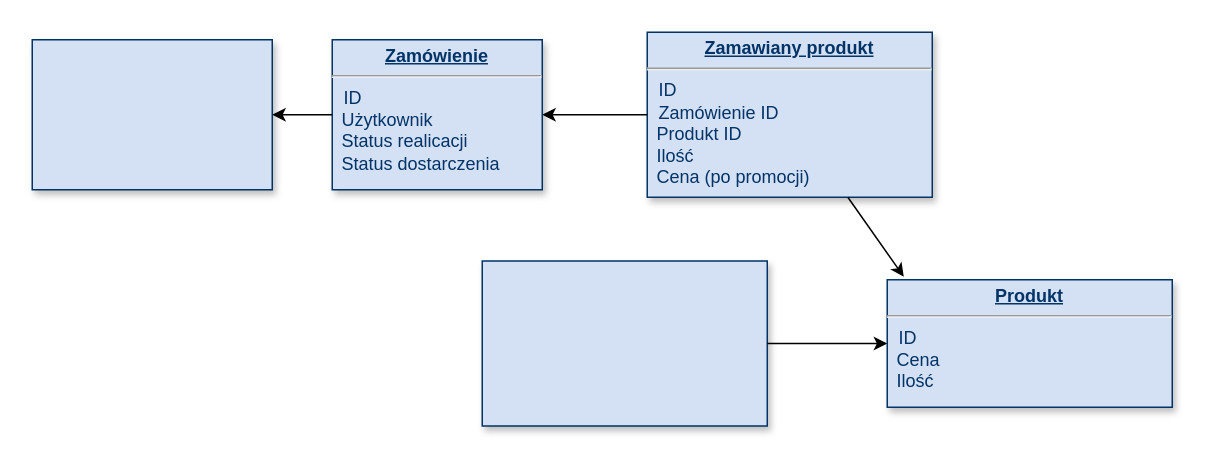
The diagram is 1208 pixels wide and 464 high, and some of its shapes have lost their labels. Each missing label, with the centre of its shape:
"Promocja ID Produkt ID Nowa Cena Max liczba produktu Data ważności" goes at point 625,345.
"Użytkownik ID nick hasło - hash hasło - sól" goes at point 153,116.
